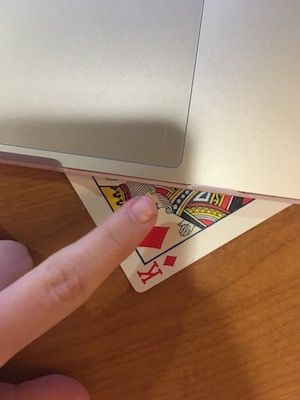KingOfDiamonds: (54, 147, 298, 304)
